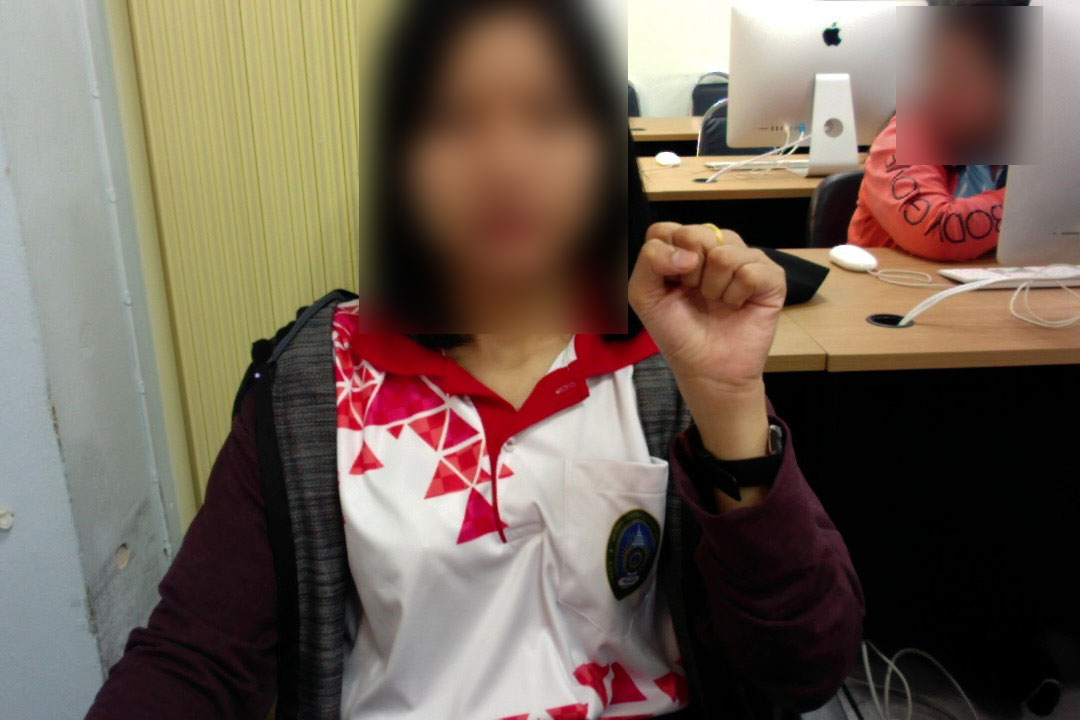sor: (621, 216, 792, 398)
